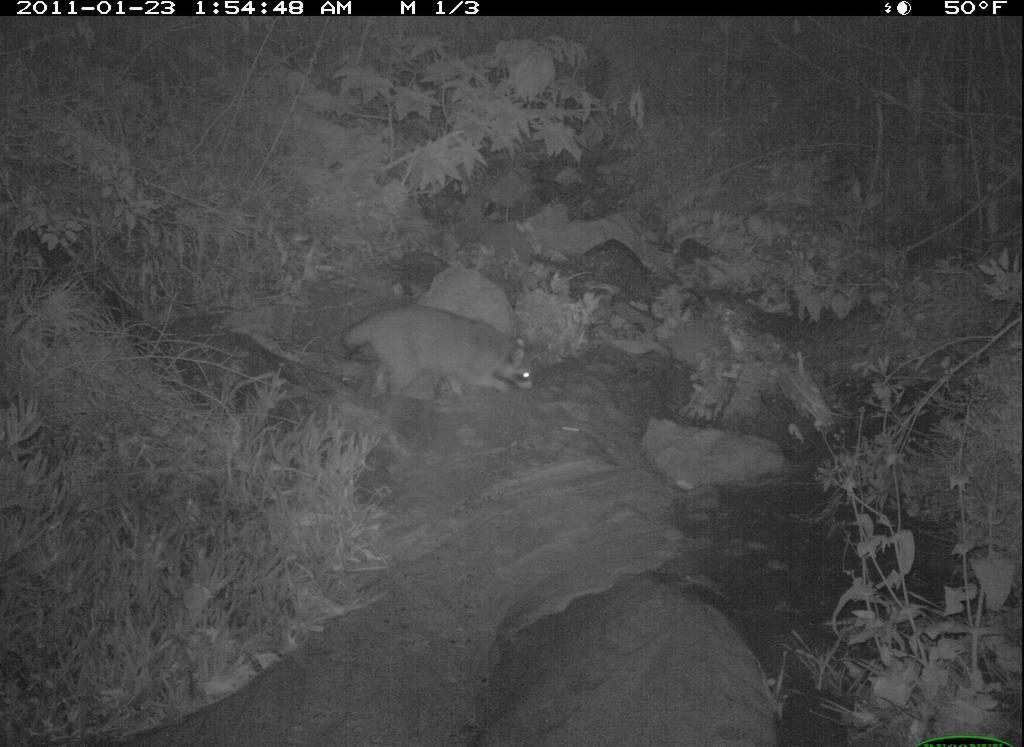raccoon: (333, 292, 541, 410)
